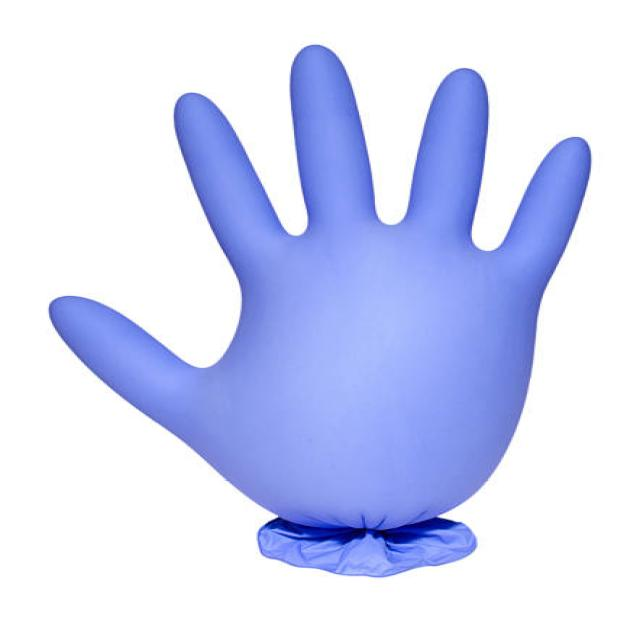B3: (43, 41, 596, 585)
